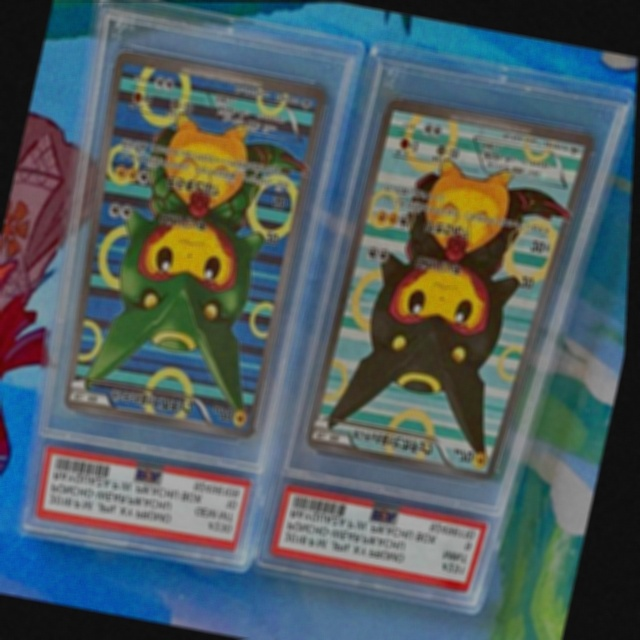card: (310, 95, 594, 478), (67, 49, 326, 438)
